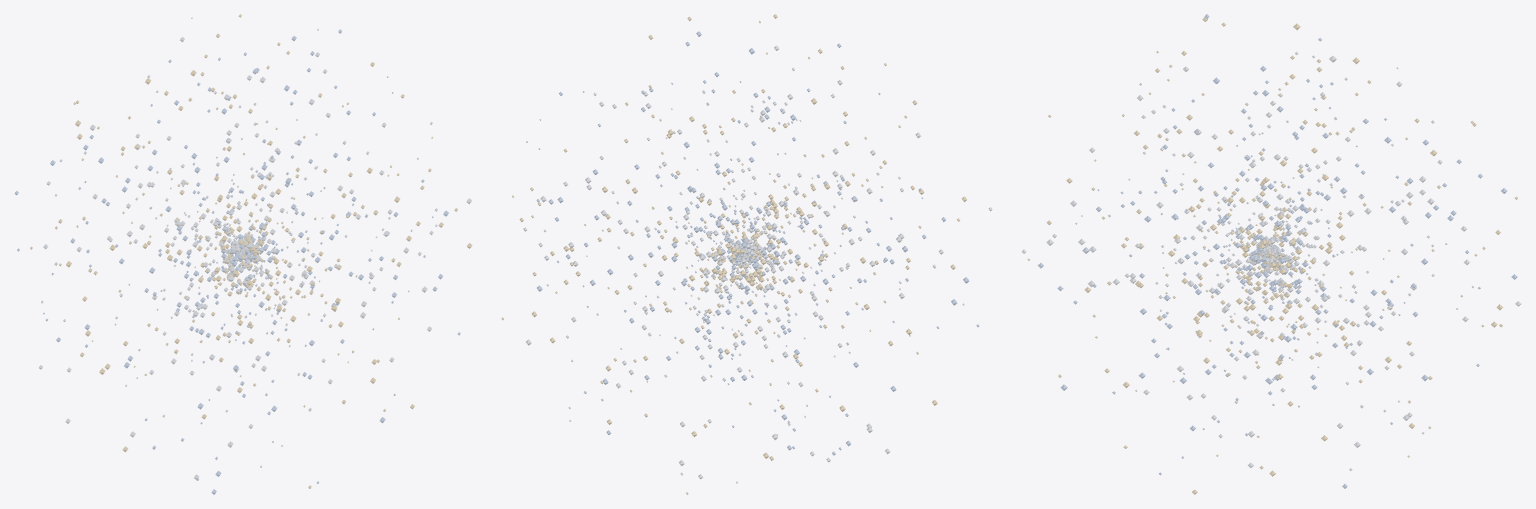
3 renders of one model, left to right at view 1: azimuth 30°, elevation 25°; view 2: azimuth 150°, elevation 25°; view 3: azimuth 270°, elevation 25°, orthographic. The views are drawn at different scales.
Bounding box in the file's own units: 5.03 × 4.68 × 5.01.
